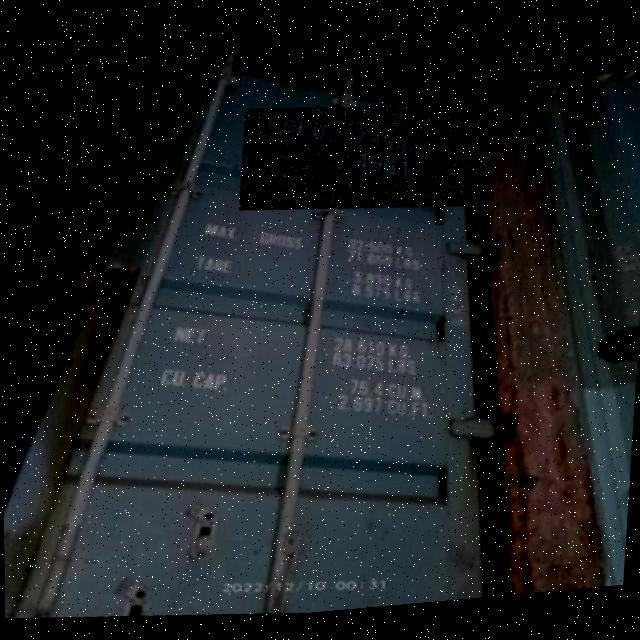container_number_h: (237, 96, 487, 231)
